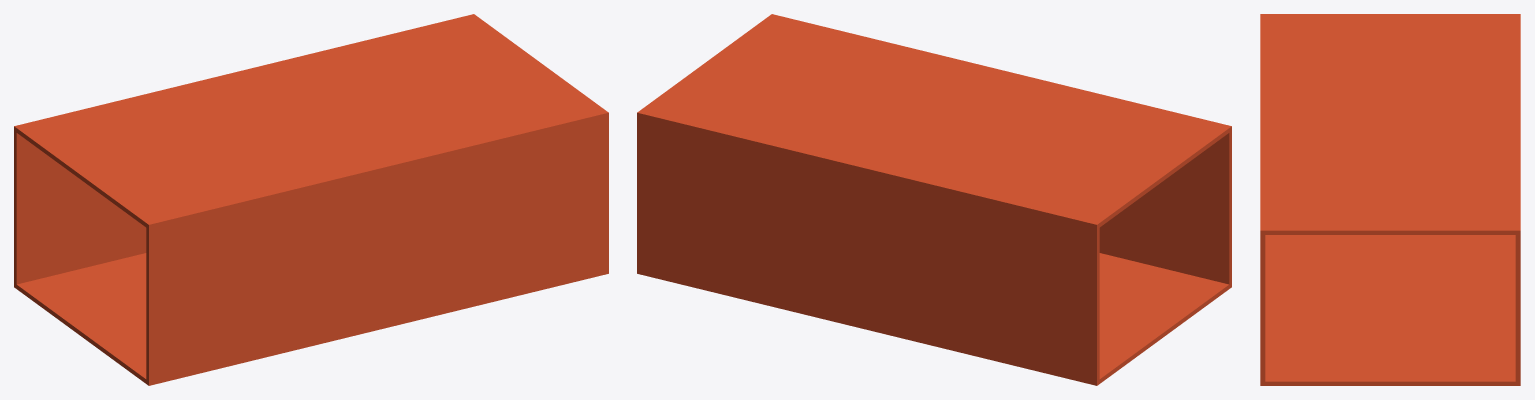
The model's file is paddle_dryer_temperature.glb.
3 views of the same model, side by side, from view 1: azimuth 30°, elevation 25°; view 2: azimuth 150°, elevation 25°; view 3: azimuth 270°, elevation 25° (orthographic). The views are drawn at different scales.
Parts seen in each view (by area): view 1: temperature__front, temperature__back; view 2: temperature__back, temperature__front; view 3: temperature__back, temperature__front.
Boxes of the visible parts, x1,y1,x2,y2 form: temperature__front: (81,63,608,385); temperature__back: (14,14,540,336); temperature__back: (637,63,1164,385); temperature__front: (705,14,1231,336); temperature__back: (1390,14,1520,385); temperature__front: (1260,14,1390,385).
Size of the model in its own units: 2.6 by 0.87 by 1.32.
